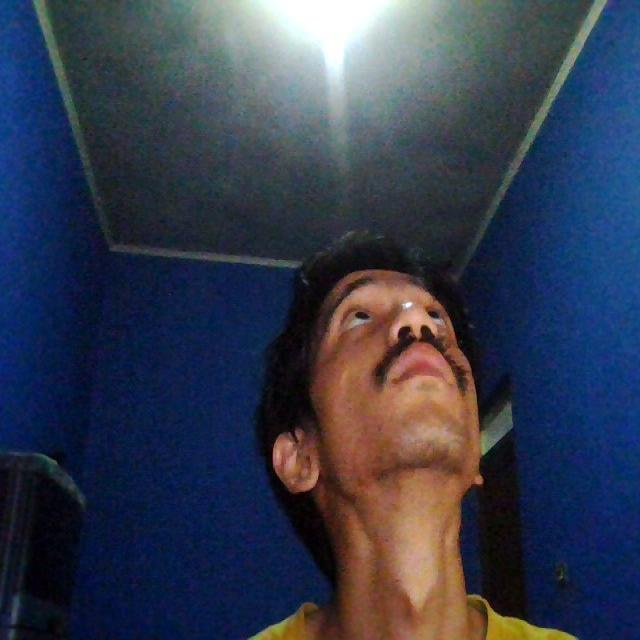Melihat keatas: (229, 232, 506, 558)
